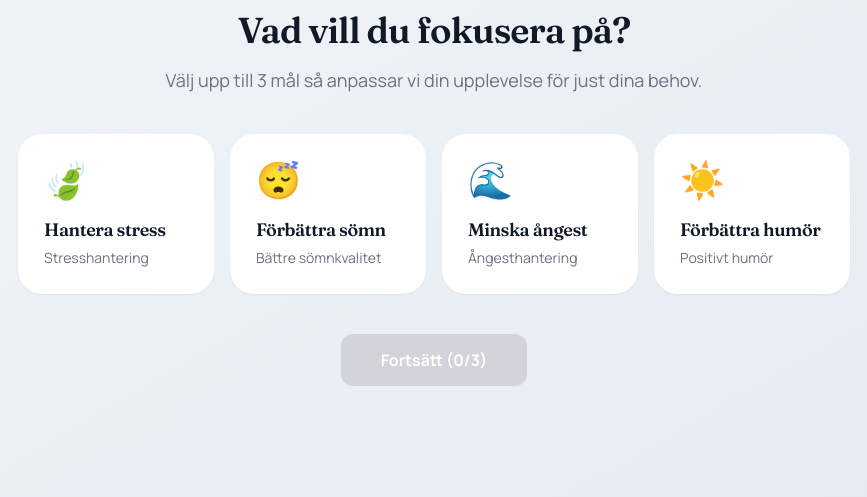
Test case: WellnessGoalsOnboarding › shows API error message when save fails
The image size is (867, 497).
Click the button "🍃 Hantera stress Stresshantering" at (116, 214), box [18,134,214,294]
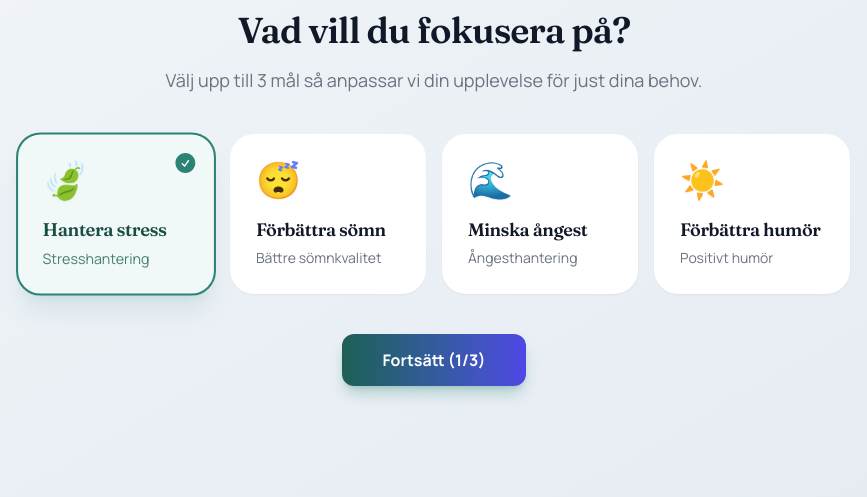
Click the button "Fortsätt (1/3)" at (434, 360), box [342,334,526,386]
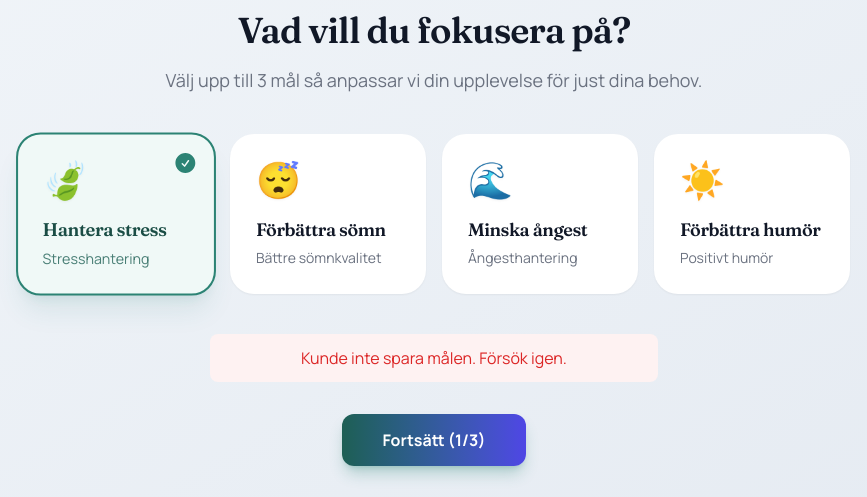
Expected: the text "Kunde inte spara målen. Försök igen." is shown, [210,334,658,382]
